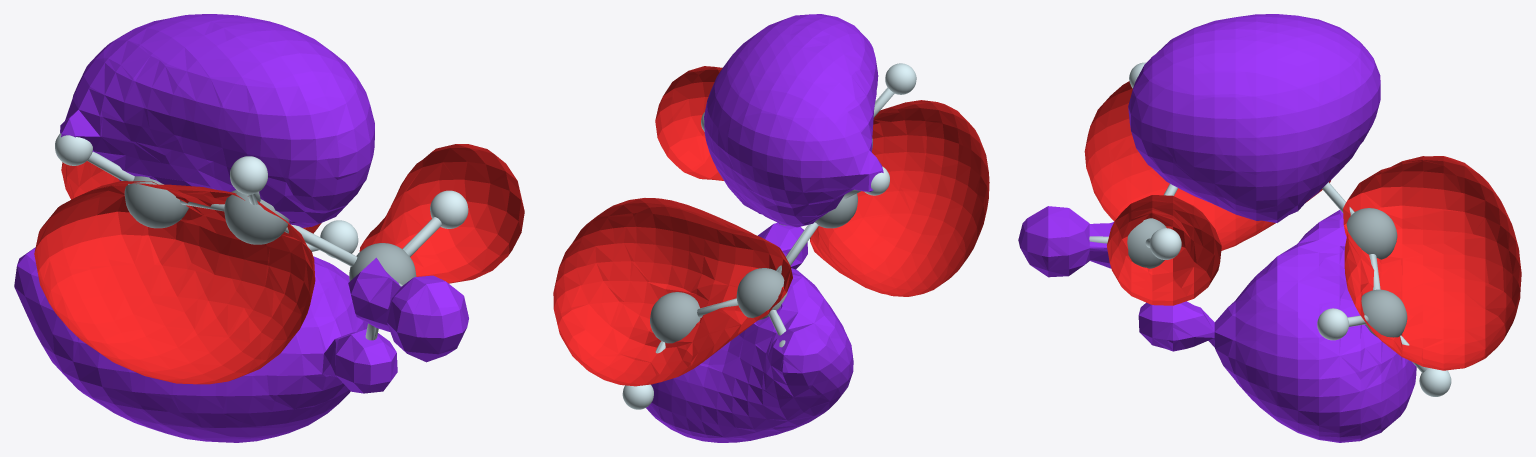
3 renders of one model, left to right at view 1: azimuth 30°, elevation 25°; view 2: azimuth 150°, elevation 25°; view 3: azimuth 270°, elevation 25°, orthographic. The views are drawn at different scales.
Visible parts, largest first — view 1: Renderer Node; view 2: Renderer Node; view 3: Renderer Node.
Boxes of the visible parts, box(x1,y1,x2,y2) form: Renderer Node: box(14, 14, 524, 442); Renderer Node: box(553, 14, 989, 442); Renderer Node: box(1018, 14, 1521, 442).
Bounding box in the file's own units: 4.97 × 5.26 × 6.28.
